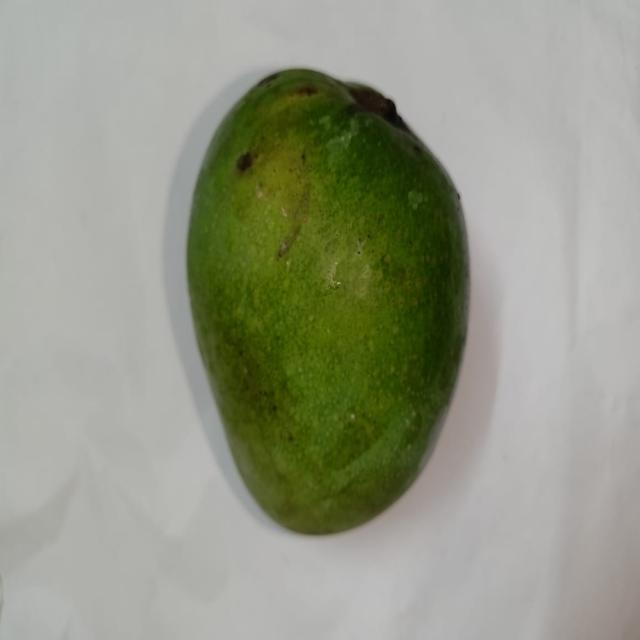fresh_mango: (182, 64, 472, 538)
